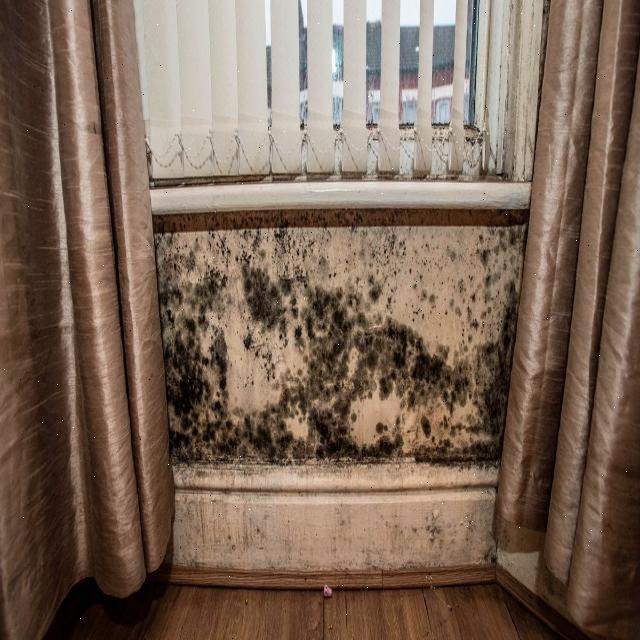Crack: (144, 121, 493, 182)
